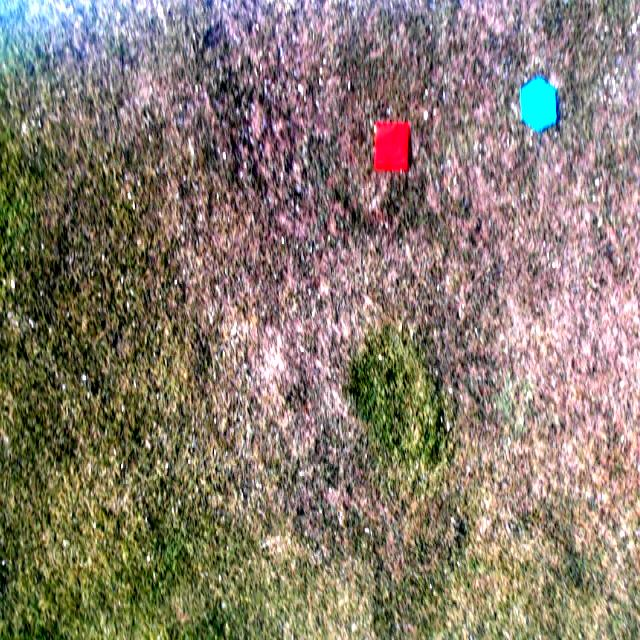blue_hexagon: (520, 79, 558, 133)
red_square: (374, 122, 410, 172)
